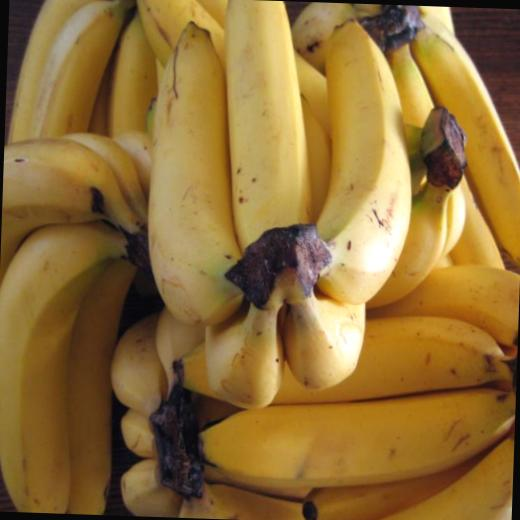Banana: (0, 0, 520, 520), (218, 0, 321, 251)
